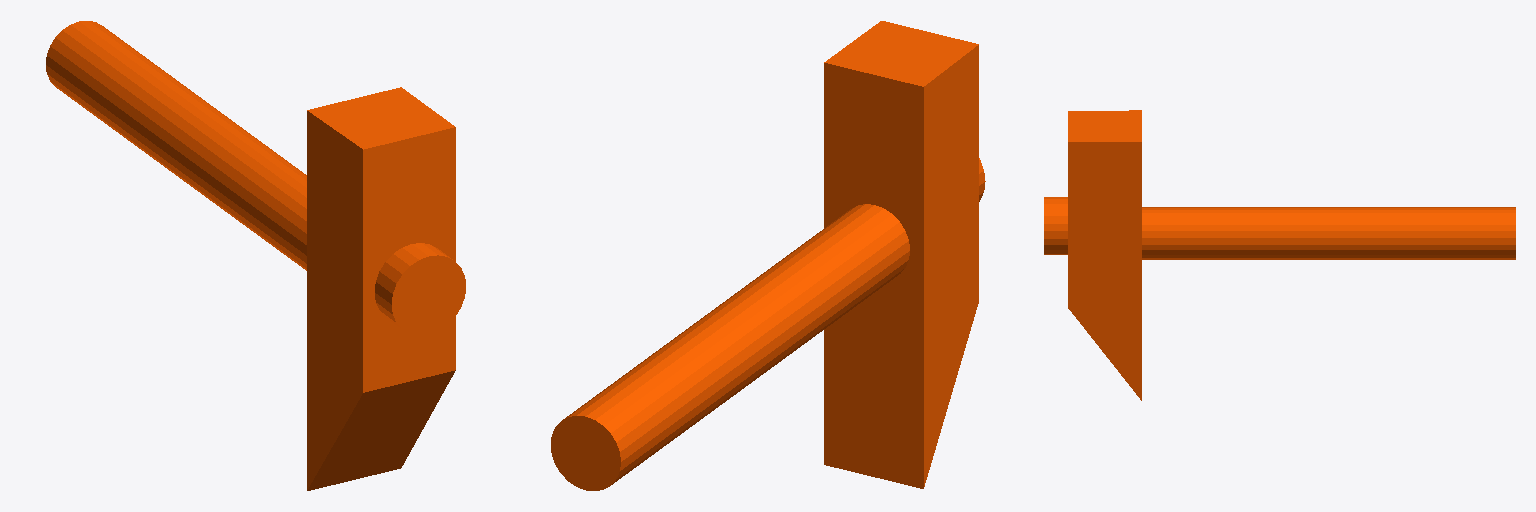
URDF robot description (2024-09-16_3_Hammer_40):
<?xml version="1.0" ?>
<robot name="2024-09-16_3_Hammer_40">
   <material name="obj_color">
      <color rgba="1.0 0.423529411765 0.0392156862745 1.0"/>
   </material>
   <link name="top">
      <inertial>
         <origin rpy="-0.001113585988762482 -0.0009566548381942835 -0.0001959117608888914" xyz="0.01369849585815687 0.05318797540897807 0.06179024601473688"/>
         <mass value="-0.4218172732609196"/>
         <inertia ixx="-0.001113568407016396" ixy="-4.009409371737171e-06" ixz="1.481952423988263e-07" iyy="-0.0001961064732997765" iyz="-1.160832107980544e-05" izz="-0.0009564777075294837"/>
      </inertial>
      <visual>
         <origin rpy="0 0 0" xyz="0 0 0"/>
         <geometry>
            <mesh filename="top_watertight_tiny.stl" scale="1 1 1"/>
         </geometry>
         <material name="obj_color"/>
      </visual>
      <collision>
         <origin rpy="0 0 0" xyz="0 0 0"/>
         <geometry>
            <mesh filename="top_watertight_tiny.obj" scale="1 1 1"/>
         </geometry>
      </collision>
   </link>
   <link name="bottom">
      <inertial>
         <origin rpy="1.633333333199431e-08 1.633333333199431e-08 1.633333333362855e-08" xyz="0.3464080000000008 0.3464080000000008 0.3464080000000008"/>
         <mass value="0.0009800000000000017"/>
         <inertia ixx="1.633333333253906e-08" ixy="5.447480642029219e-19" ixz="5.447480642029219e-19" iyy="1.633333333253906e-08" iyz="5.447480642029219e-19" izz="1.633333333253906e-08"/>
      </inertial>
      <visual>
         <origin rpy="0 0 0" xyz="0 0 0"/>
         <geometry>
            <mesh filename="bottom_watertight_tiny.stl" scale="1 1 1"/>
         </geometry>
         <material name="obj_color"/>
      </visual>
   </link>
   <link name="world"/>
   <joint name="world_to_base" type="fixed">
      <origin xyz="0 0 0"/>
      <axis xyz="0 0 0"/>
      <parent link="world"/>
      <child link="bottom"/>
   </joint>
   <joint name="rotation" type="revolute">
      <origin xyz="0 0 0"/>
      <axis xyz="0 0 -1"/>
      <parent link="bottom"/>
      <child link="top"/>
      <dynamics damping="1.0" friction="1.0"/>
      <limit effort="0.1" velocity="0.1" lower="0" upper="0.001"/>
   </joint>
</robot>

--- Facts derived from the render (not from the file) ---
Views: 3 orthographic renders of the robot side by side, from view 1: azimuth 30°, elevation 25°; view 2: azimuth 150°, elevation 25°; view 3: azimuth 270°, elevation 25°.
Robot: 2024-09-16_3_Hammer_40 — 3 links, 2 joints (1 revolute, 1 fixed); root link world; default pose: all joints at 0.
Links seen in each view (by area): view 1: top; view 2: top; view 3: top.
Boxes of the visible links, x1,y1,x2,y2 form: top: (46, 21, 465, 490); top: (551, 21, 985, 490); top: (1044, 110, 1515, 400).
Size in the robot's own frame: 0.0274 by 0.1735 by 0.1056 metres.
Meshes: 2 distinct files referenced, 1 mesh visuals loaded (1 binary STL); not drawn: 1 (reference not matched to a file when rendering).
